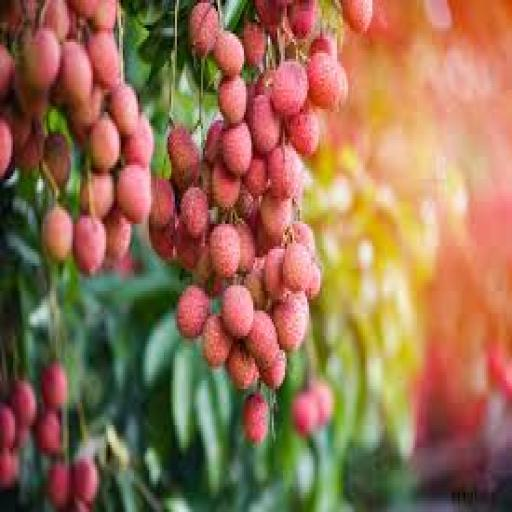lychee: (23, 28, 61, 89), (308, 54, 348, 109), (60, 40, 93, 106), (272, 294, 309, 352), (272, 59, 309, 117), (168, 126, 201, 190), (116, 166, 150, 223), (88, 31, 121, 89), (246, 311, 279, 369), (73, 216, 106, 274), (248, 96, 281, 153), (189, 0, 219, 58), (177, 286, 210, 338), (222, 286, 255, 338), (90, 115, 121, 170), (209, 224, 240, 279), (269, 146, 301, 198), (43, 205, 72, 262), (108, 84, 139, 137), (222, 124, 253, 176), (123, 115, 154, 167), (203, 314, 232, 369), (287, 110, 320, 156), (81, 174, 115, 218), (226, 342, 258, 388), (105, 208, 132, 262), (261, 194, 292, 240), (218, 76, 247, 125), (181, 188, 210, 237), (283, 241, 312, 290), (43, 135, 70, 187), (149, 177, 175, 229), (211, 163, 240, 209), (215, 31, 243, 78), (243, 392, 268, 444), (41, 361, 67, 408), (287, 0, 318, 39), (12, 381, 37, 428), (45, 462, 70, 509), (43, 0, 70, 41), (36, 412, 61, 456), (293, 392, 318, 436), (73, 459, 98, 503), (263, 247, 284, 299), (235, 222, 256, 274), (311, 381, 333, 428), (259, 350, 286, 388), (343, 0, 374, 33), (243, 23, 266, 67), (244, 157, 268, 198), (244, 269, 266, 310), (203, 121, 223, 165), (0, 118, 13, 179), (92, 0, 117, 30), (0, 406, 16, 450), (68, 0, 98, 19)
